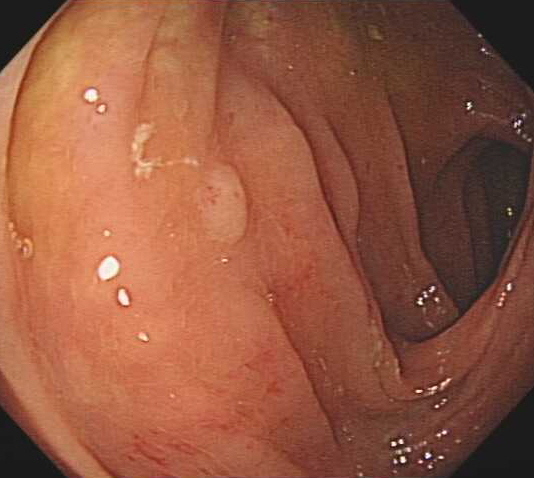others: (193, 160, 250, 246)
